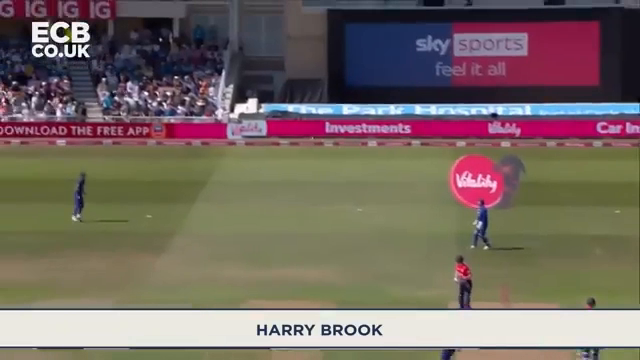Keeper: (471, 199, 493, 252)
batsman: (450, 254, 477, 309)
fielder: (66, 169, 91, 228)
